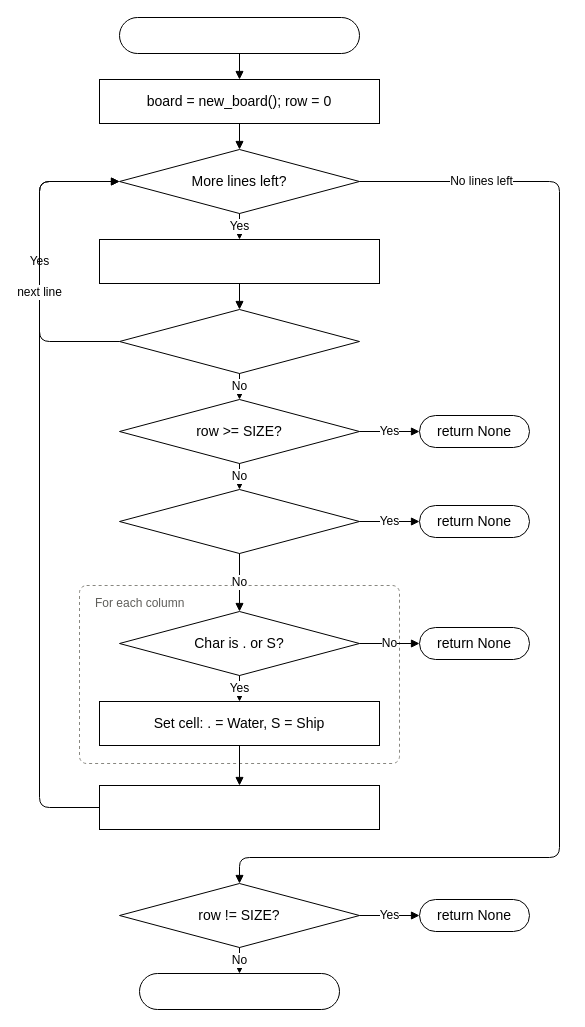
Image size: 585x1027. Some labels were removed from this diagram. Here are the shapes that lost their labels. From the top down, the centre of each, then its label:
[239,35]: Start: parse_board(text)
[239,261]: line = next line, trimmed
[239,341]: Blank or # line?
[239,521]: Width != SIZE?
[239,807]: row += 1
[239,991]: Return Some(board)
